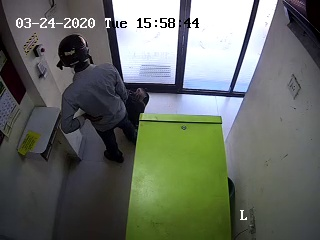helmet: (56, 33, 95, 77)
